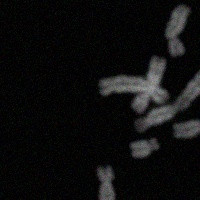chromosome: (134, 70, 200, 134), (98, 74, 169, 105), (133, 55, 167, 113), (163, 4, 190, 60), (128, 137, 161, 163), (94, 164, 115, 200), (174, 116, 200, 144)
